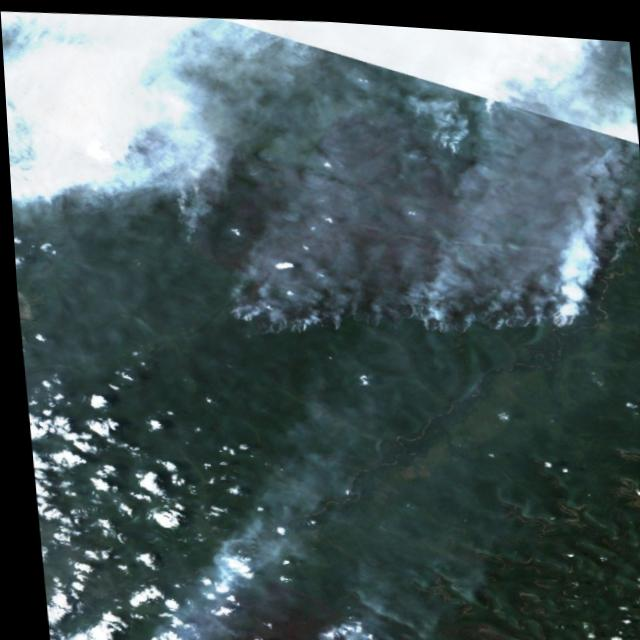fire: (218, 281, 397, 342), (403, 285, 582, 340), (165, 196, 212, 251), (416, 120, 462, 158)
